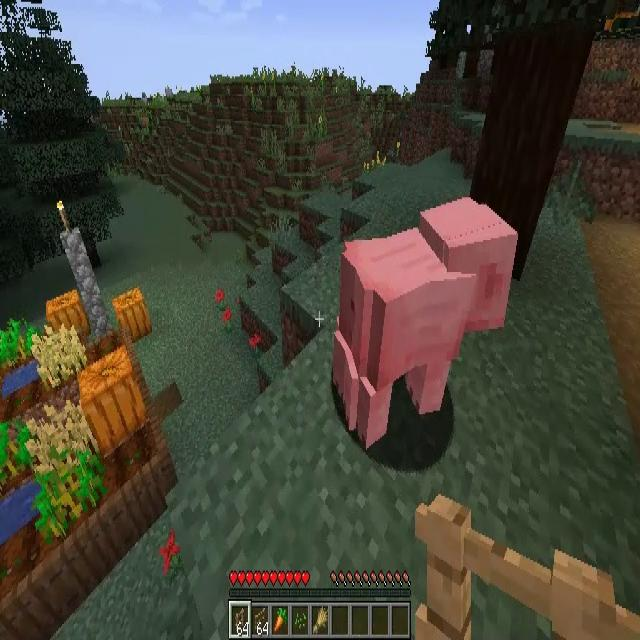pig: (338, 201, 515, 442)
